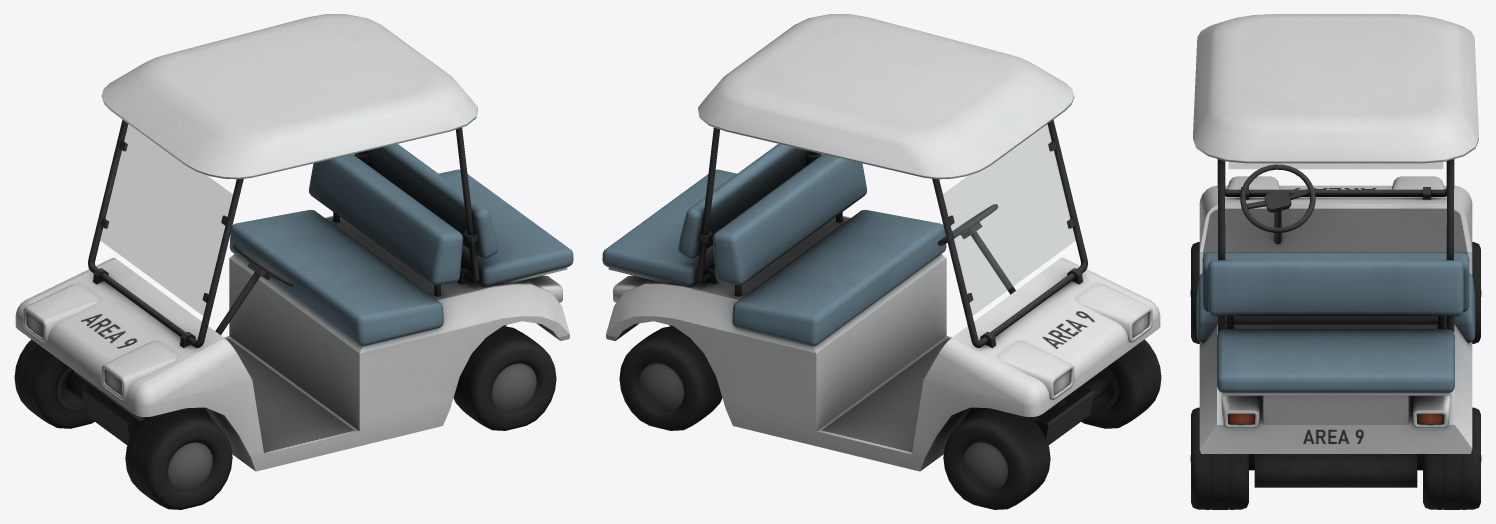
File: cartGolf.glb
3 renders of one model, left to right at view 1: azimuth 30°, elevation 25°; view 2: azimuth 150°, elevation 25°; view 3: azimuth 270°, elevation 25°, orthographic. The views are drawn at different scales.
Parts seen in each view (by area): view 1: golfcart; view 2: golfcart; view 3: golfcart.
Boxes of the visible parts, box(x1,y1,x2,y2) form: golfcart: box(14, 14, 573, 509); golfcart: box(602, 14, 1161, 509); golfcart: box(1190, 14, 1481, 509).
Size of the model in its own units: 123 by 90.4 by 66.23.
Materials: 2 (2 with a texture image).
